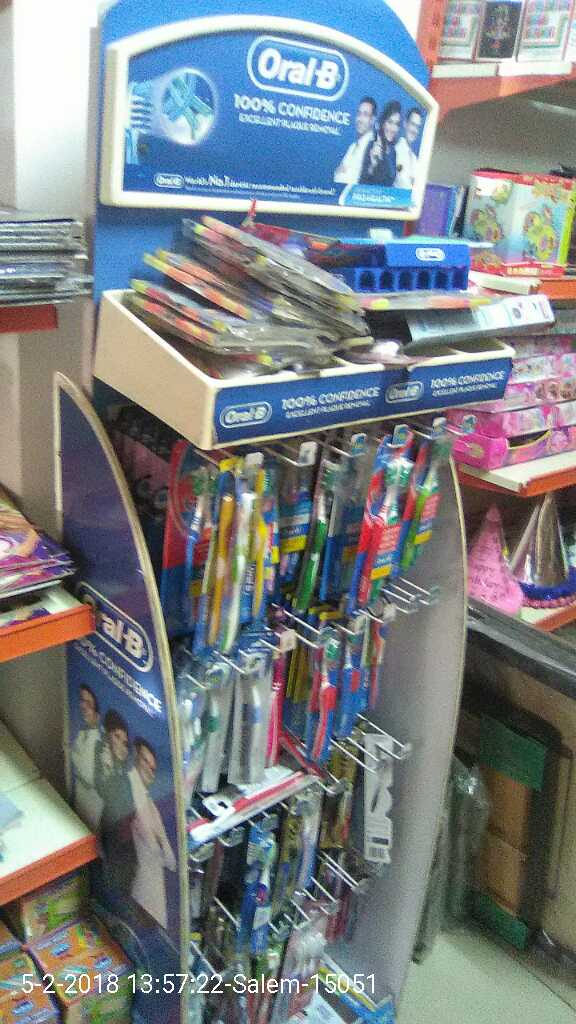oralb: (202, 456, 270, 651), (359, 434, 405, 611), (409, 437, 459, 576), (302, 619, 339, 776)
